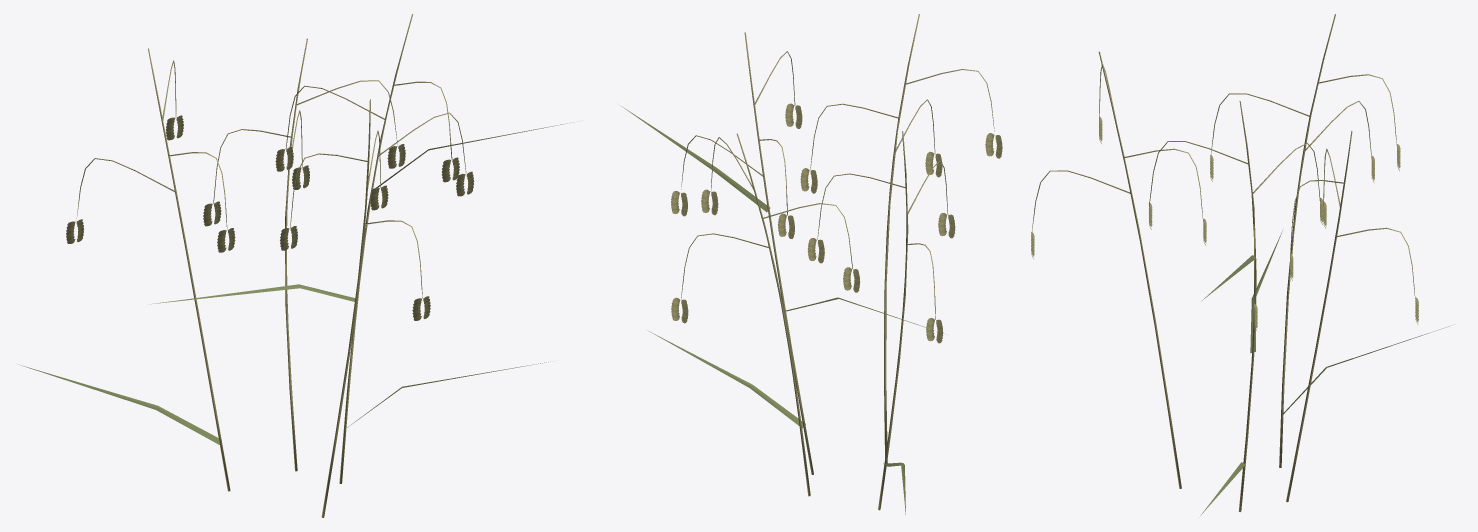
File: Brize_0_Niveau1.fbx
The picture shows the model from 3 angles, left to right: view 1: azimuth 30°, elevation 25°; view 2: azimuth 150°, elevation 25°; view 3: azimuth 270°, elevation 25°; orthographic projection. The views are drawn at different scales.
Parts seen in each view (by area): view 1: Brize_0_Niveau1; view 2: Brize_0_Niveau1; view 3: Brize_0_Niveau1.
Part boxes in pixels (<box>): Brize_0_Niveau1: <box>19,14,574,517</box>; Brize_0_Niveau1: <box>621,14,1002,514</box>; Brize_0_Niveau1: <box>1031,14,1449,515</box>.
Bounding box in the file's own units: 31.91 × 31.3 × 27.58.
